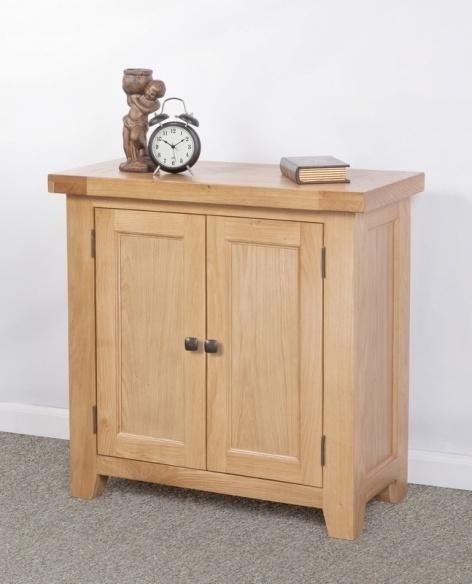cabinet_door: (204, 222, 319, 482), (96, 218, 203, 466)
handle: (184, 333, 200, 357), (204, 334, 219, 358)
